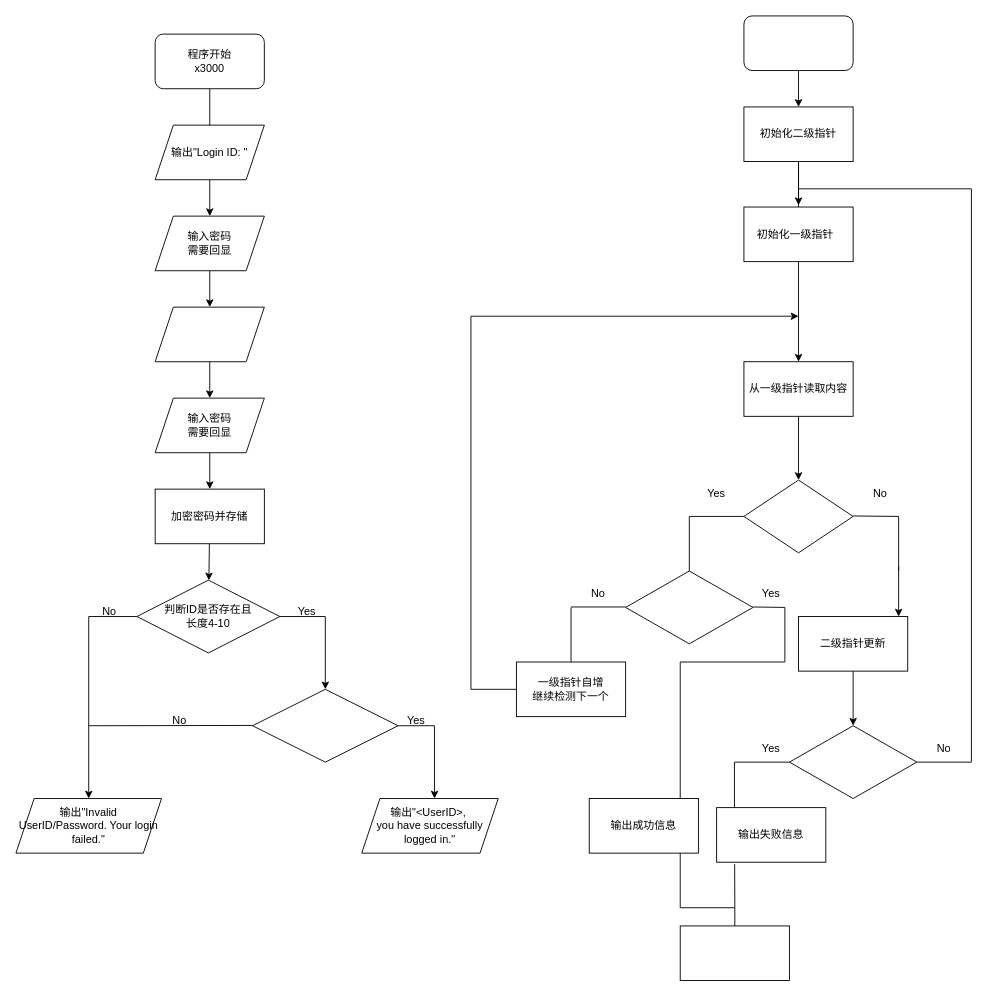
The diagram is 988 pixels wide and 996 high, and some of its shapes have lost their labels. The shapes that lost their labels are listed below. From the top down, each one's centre as x and y in pixels, then its label:
point (798, 43): 开始
point (209, 334): 输出:"Password: "
point (798, 516): 字符是否一致？
point (689, 607): 本次ID 是否已经读取完毕
point (325, 725): 判断对应ID的密码 是否相等且长度6-10
point (853, 762): 是否完成所有判断
point (734, 953): Mamba Out
